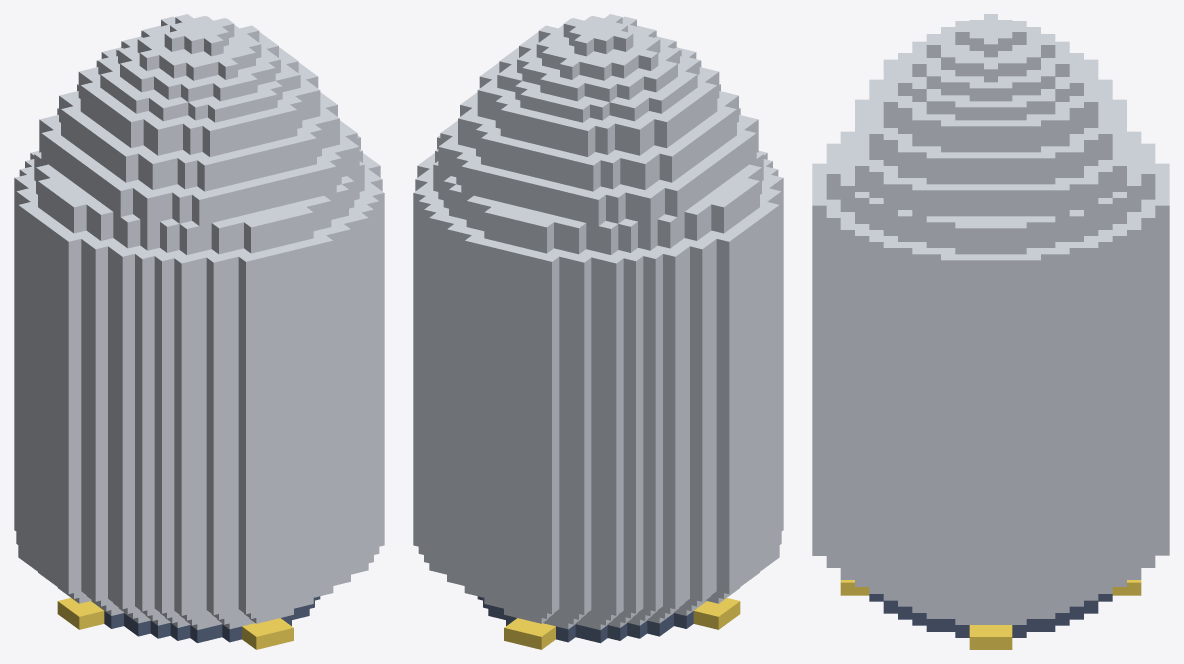
The model's file is pelicano_fairing_close.glb.
3 views of the same model, side by side, from view 1: azimuth 30°, elevation 25°; view 2: azimuth 150°, elevation 25°; view 3: azimuth 270°, elevation 25° (orthographic).
Visible parts, largest first — view 1: ObjObject.024; view 2: ObjObject.024; view 3: ObjObject.024.
Part boxes in pixels (x1,y1,x2,y2): ObjObject.024: (14,14,384,649); ObjObject.024: (413,14,783,649); ObjObject.024: (812,14,1169,649).
Size of the model in its own units: 2.5 by 4.4 by 2.5.
Materials: 1 (1 with a texture image).
